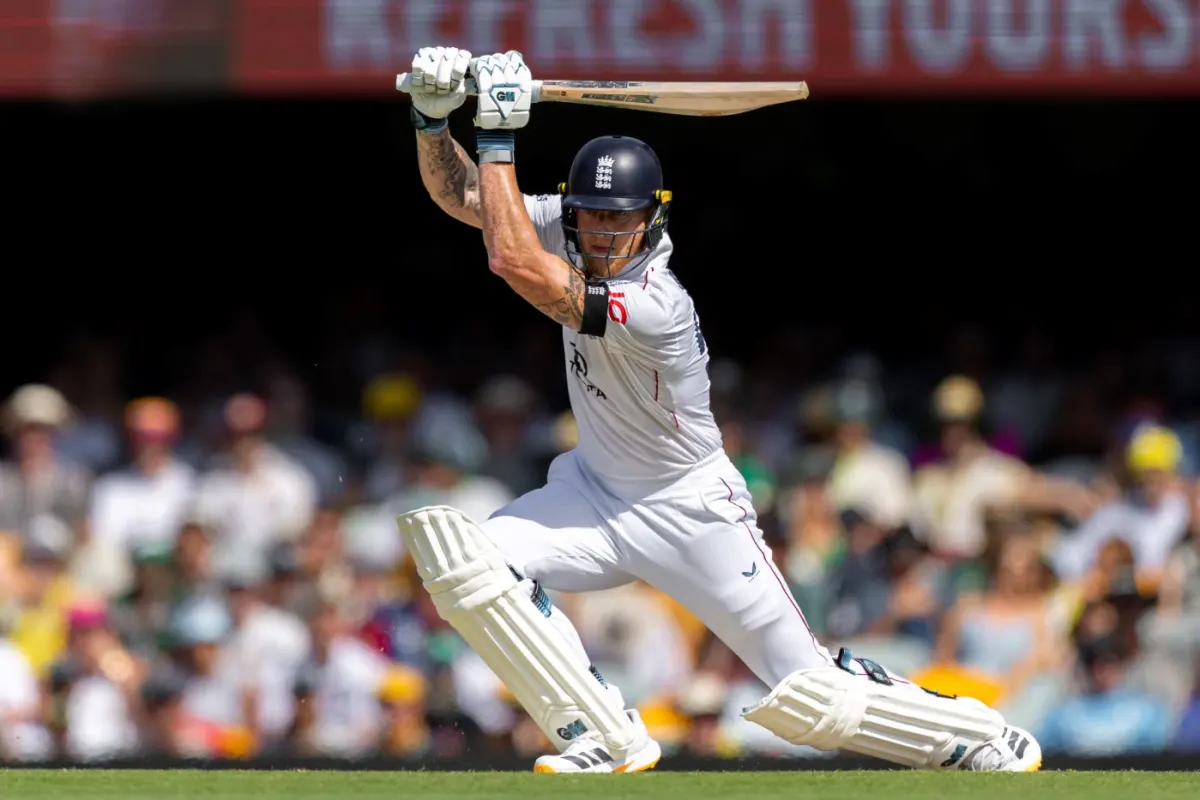Defence: (276, 0, 1079, 800)
